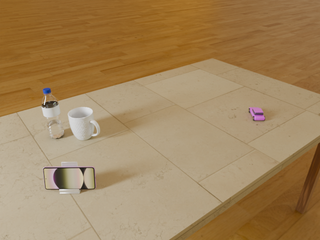bottle: (41, 88, 64, 139)
cup: (68, 107, 100, 140)
phone: (43, 166, 96, 189)
toy_car: (249, 107, 265, 120)
